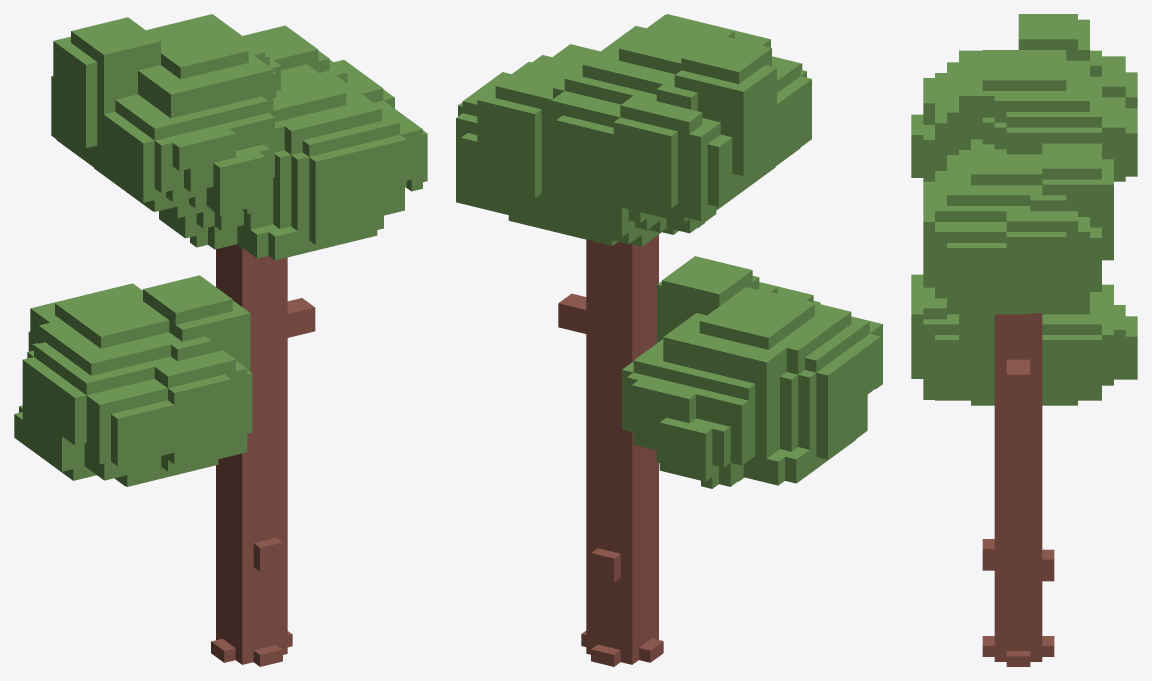
File: arvores-2.obj
3 views of the same model, side by side, from view 1: azimuth 30°, elevation 25°; view 2: azimuth 150°, elevation 25°; view 3: azimuth 270°, elevation 25° (orthographic). The views are drawn at different scales.
Bounding box in the file's own units: 3.1 × 5.3 × 1.9.
Materials: 1 (1 with a texture image).
